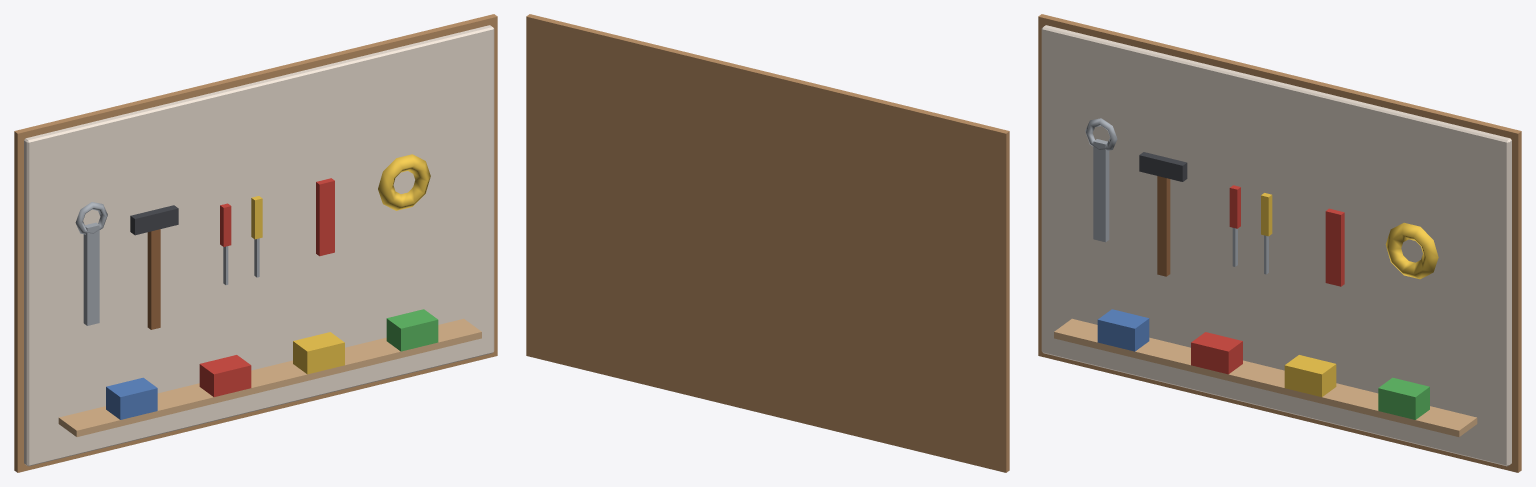
File: workbench_tools_wall.glb
The picture shows the model from 3 angles, left to right: view 1: azimuth 30°, elevation 25°; view 2: azimuth 150°, elevation 25°; view 3: azimuth 330°, elevation 25°; orthographic projection.
Visible parts, largest first — view 1: workbench_tools_wall; view 2: workbench_tools_wall; view 3: workbench_tools_wall.
Part boxes in pixels (<box>): workbench_tools_wall: <box>14,14,497,472</box>; workbench_tools_wall: <box>526,14,1009,472</box>; workbench_tools_wall: <box>1038,14,1521,472</box>.
Bounding box in the file's own units: 1.54 × 1.04 × 0.14.
Materials: 1 (1 with a texture image).
